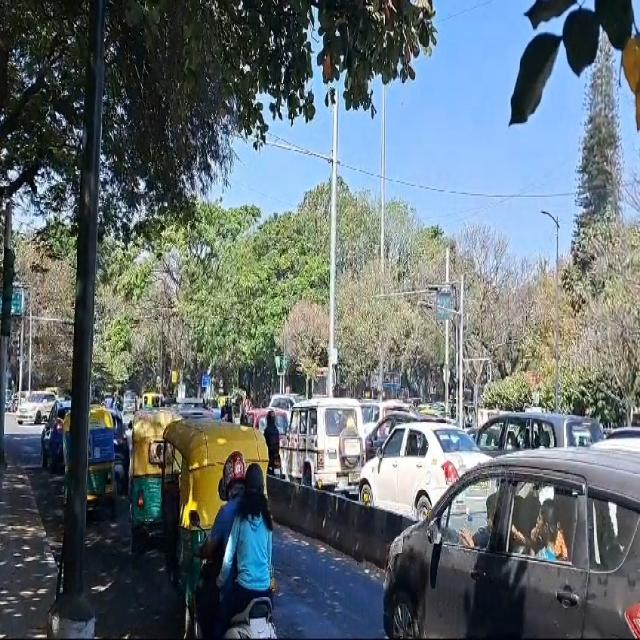cars: (382, 449, 640, 640), (364, 424, 496, 533), (281, 398, 367, 502), (470, 409, 604, 449)
